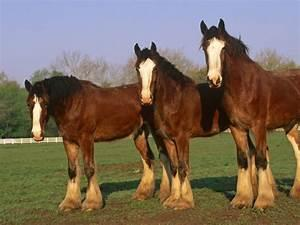horse: (133, 40, 258, 210), (24, 74, 173, 214), (199, 18, 299, 209)
